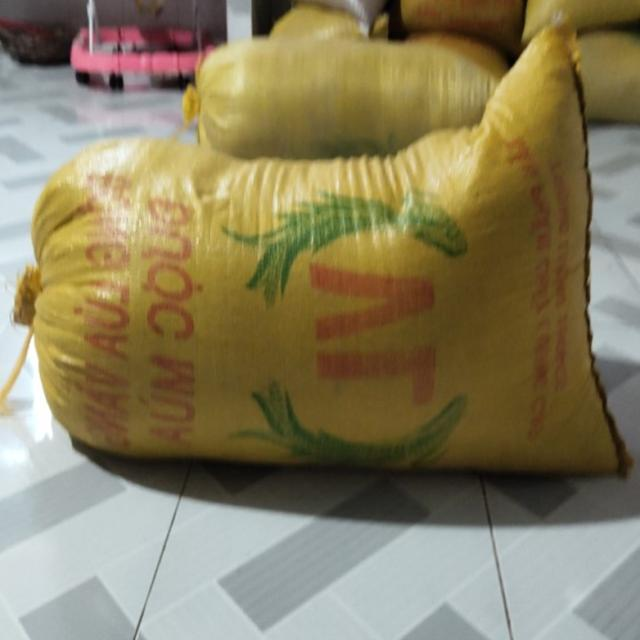gunny_bag: (30, 27, 632, 475), (196, 35, 498, 158)
